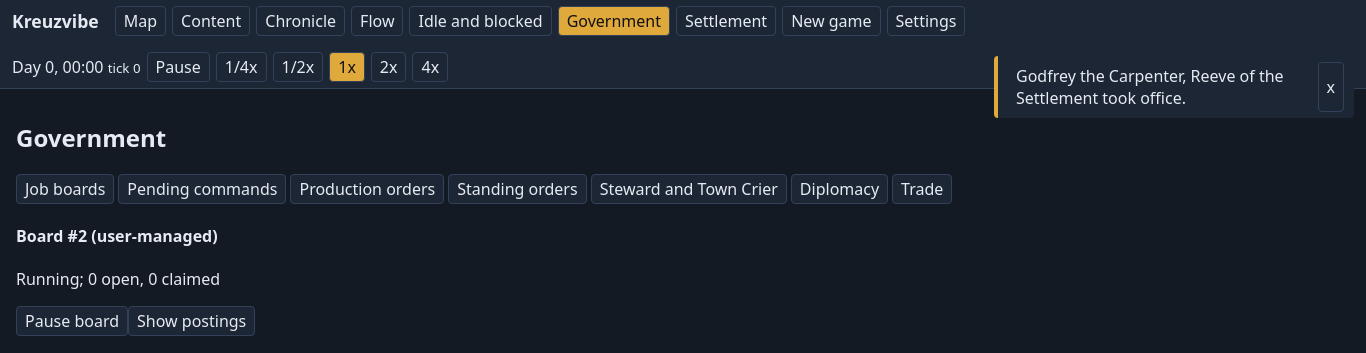
ProductionTab › says a workstation is needed when there is none
Click the tab "Production orders": (367, 189) [290,174,444,204]
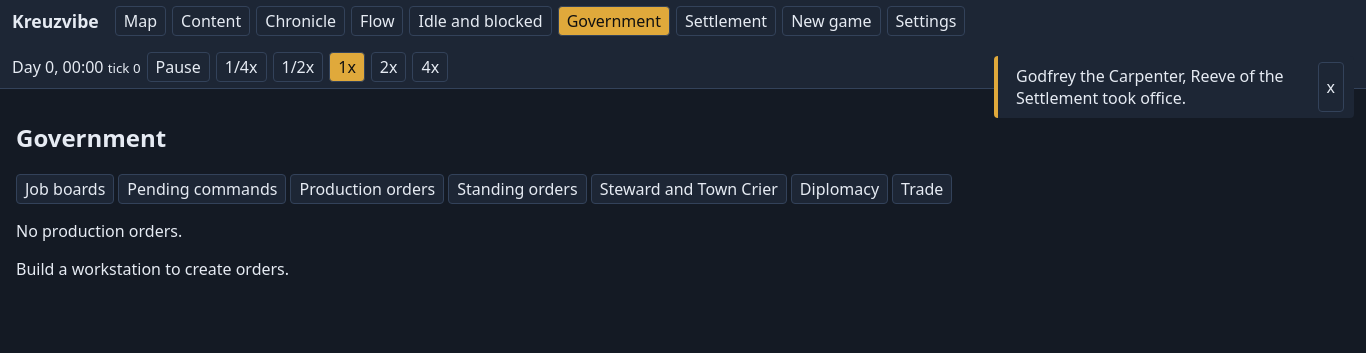
Expected: the text "Build a workstation to create orders." is shown, [16,258,289,280]
